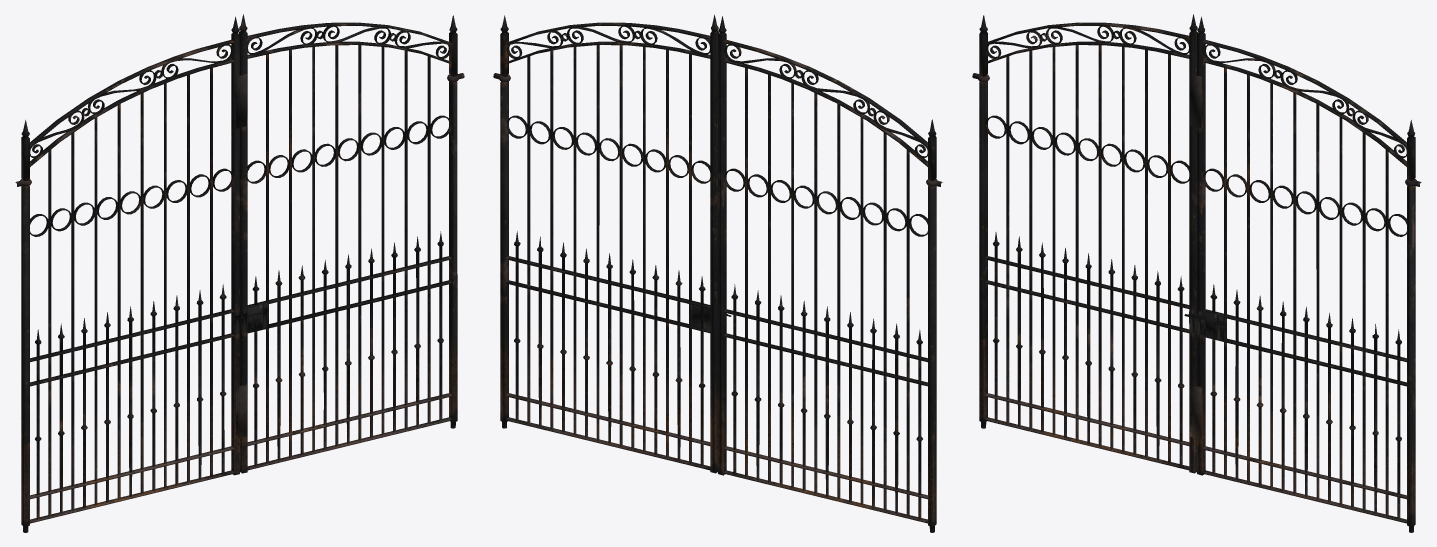
The model's file is gate-iron.89decf24.glb.
3 renders of one model, left to right at view 1: azimuth 30°, elevation 25°; view 2: azimuth 150°, elevation 25°; view 3: azimuth 330°, elevation 25°, orthographic.
Visible parts, largest first — view 1: model; view 2: model; view 3: model.
Boxes of the visible parts, <box> form: model: <box>15,14,464,532</box>; model: <box>493,14,942,532</box>; model: <box>972,14,1421,532</box>.
Size of the model in its own units: 2.95 by 2.93 by 0.0962.
Materials: 1 (1 with a texture image).
